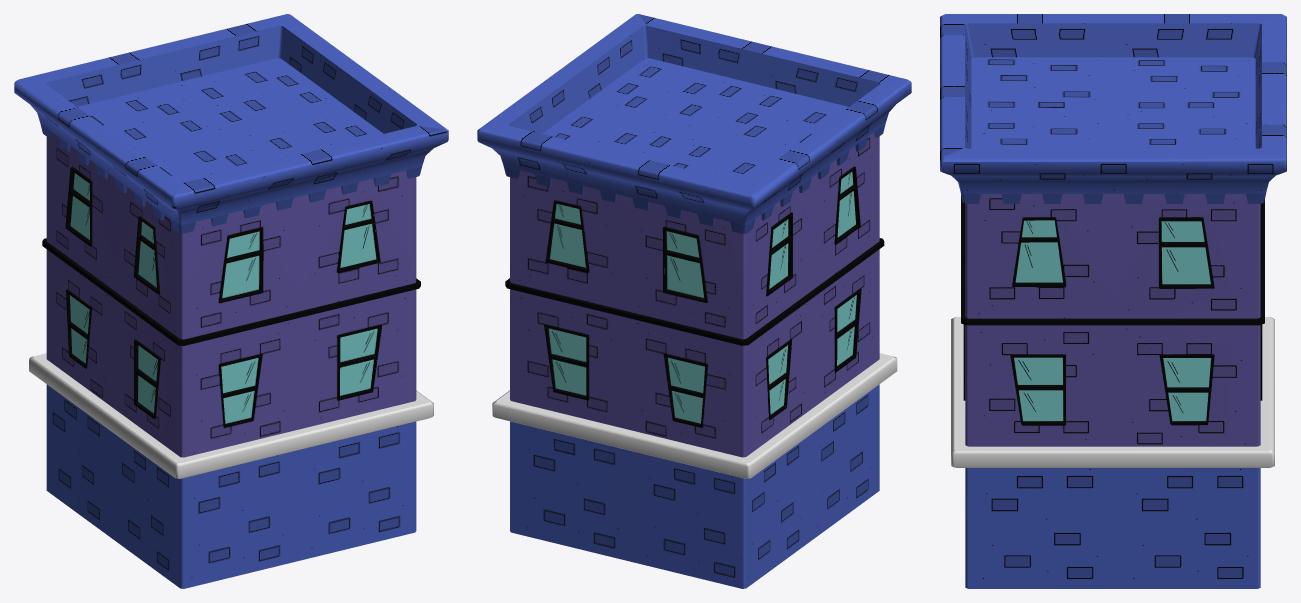
File: 2x2w_Building.fbx
3 renders of one model, left to right at view 1: azimuth 30°, elevation 25°; view 2: azimuth 150°, elevation 25°; view 3: azimuth 270°, elevation 25°, orthographic. The views are drawn at different scales.
Visible parts, largest first — view 1: 2x2, roof, ground floor, bar; view 2: 2x2, roof, ground floor, bar; view 3: 2x2, roof, ground floor, bar.
Boxes of the visible parts, box(x1,y1,x2,y2) form: 2x2: box(42, 132, 420, 457); roof: box(14, 14, 448, 233); ground floor: box(46, 384, 416, 588); bar: box(29, 353, 433, 478); 2x2: box(505, 132, 884, 457); roof: box(477, 14, 911, 233); ground floor: box(510, 384, 879, 588); bar: box(492, 353, 897, 478); 2x2: box(961, 194, 1264, 446); roof: box(940, 14, 1286, 203); ground floor: box(965, 468, 1260, 588); bar: box(951, 317, 1274, 467).
Bounding box in the file's own units: 5.87 × 8.23 × 5.87.
